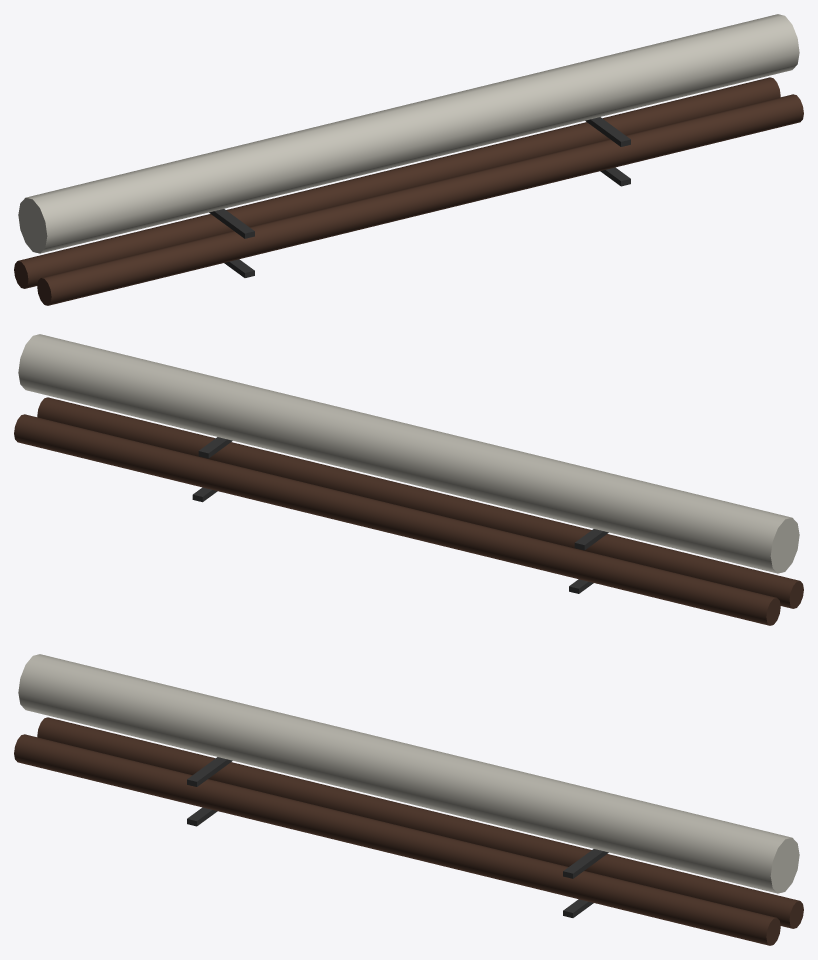
The model's file is prop_pipe_run.glb.
3 views of the same model, one above another, from view 1: azimuth 30°, elevation 25°; view 2: azimuth 150°, elevation 25°; view 3: azimuth 330°, elevation 25° (orthographic).
Visible parts, largest first — view 1: prop_pipe_run; view 2: prop_pipe_run; view 3: prop_pipe_run.
Boxes of the visible parts, <box> form: prop_pipe_run: <box>14,14,803,305</box>; prop_pipe_run: <box>14,334,803,625</box>; prop_pipe_run: <box>14,654,803,945</box>.
Bounding box in the file's own units: 3 × 0.39 × 0.36.
